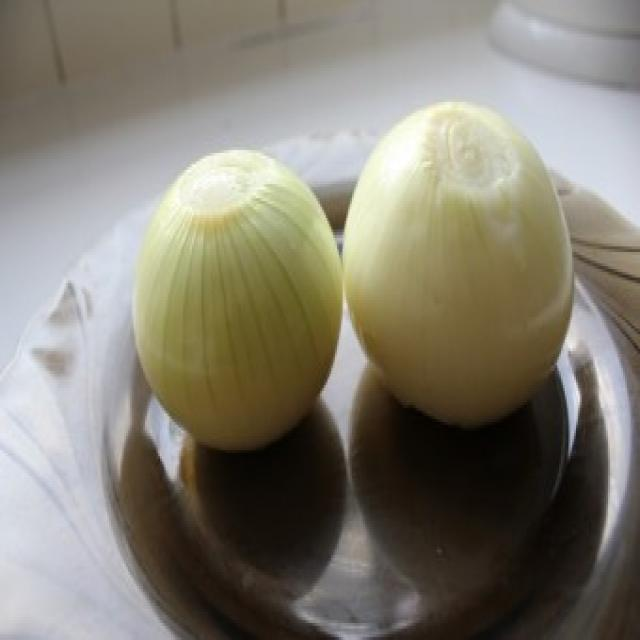onion: (344, 93, 586, 430), (121, 137, 342, 473)
